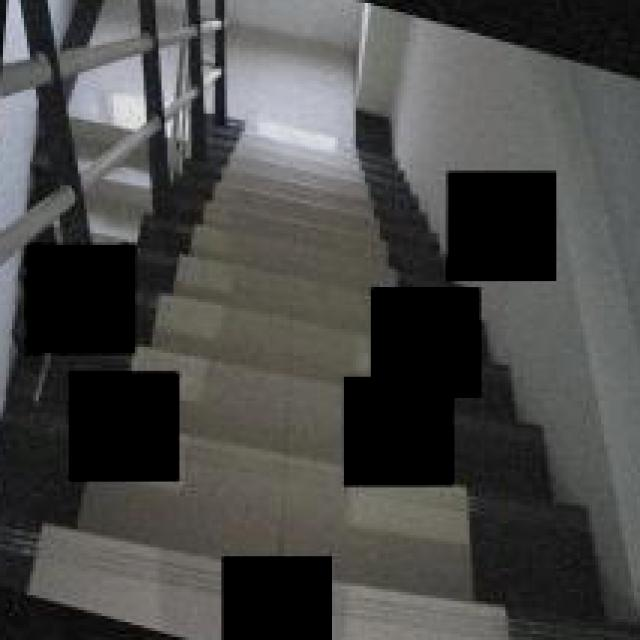downstair: (201, 106, 366, 369)
